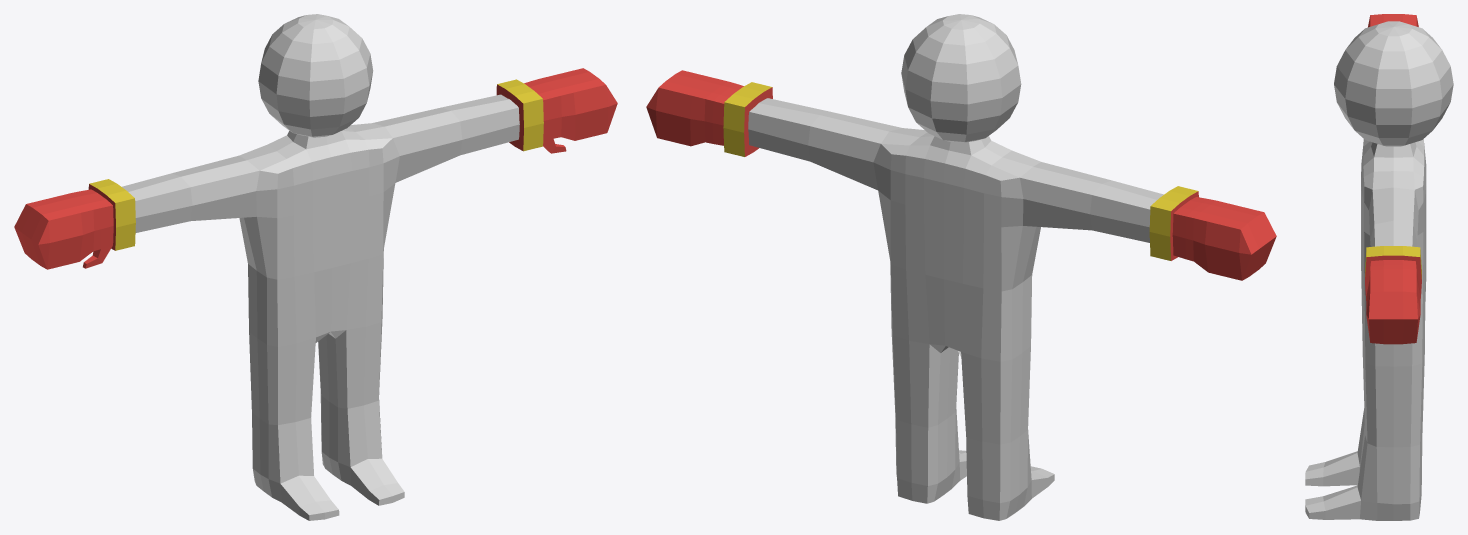
The model's file is person.fbx.
3 renders of one model, left to right at view 1: azimuth 30°, elevation 25°; view 2: azimuth 150°, elevation 25°; view 3: azimuth 270°, elevation 25°, orthographic. The views are drawn at different scales.
Parts seen in each view (by area): view 1: Cube.002; view 2: Cube.002; view 3: Cube.002.
Boxes of the visible parts, bbox=[...] form: Cube.002: bbox=[14, 14, 617, 520]; Cube.002: bbox=[646, 14, 1276, 520]; Cube.002: bbox=[1305, 14, 1453, 520].
Bounding box in the file's own units: 678 × 516 × 147.
